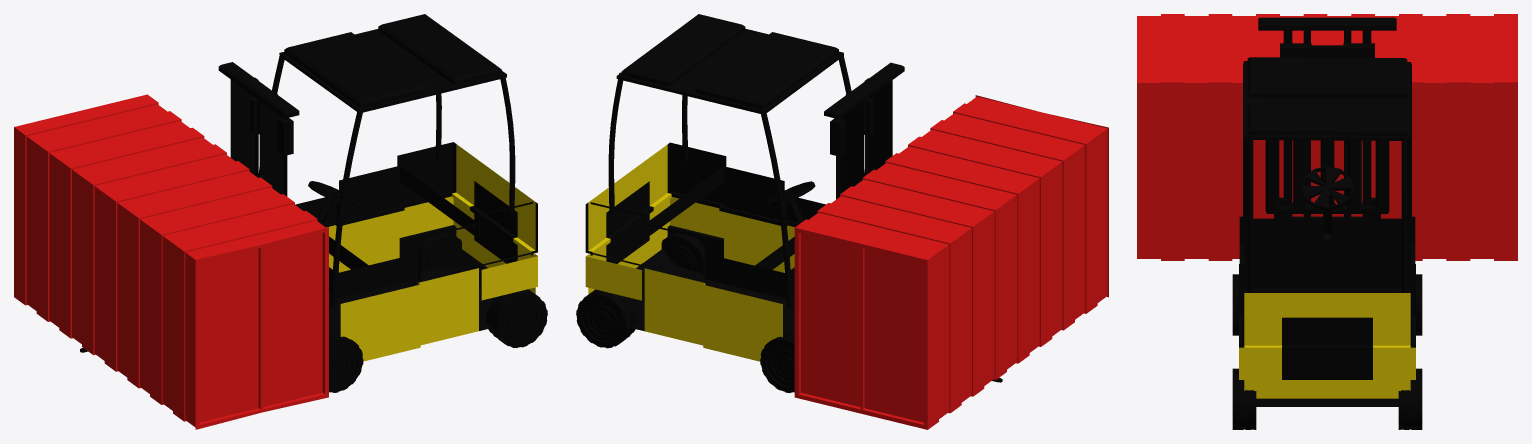
The model's file is stacker.fbx.
3 views of the same model, side by side, from view 1: azimuth 30°, elevation 25°; view 2: azimuth 150°, elevation 25°; view 3: azimuth 270°, elevation 25° (orthographic). The views are drawn at different scales.
Visible parts, largest first — view 1: Containers.001; view 2: Containers.001; view 3: Containers.001.
Part boxes in pixels (bbox=[...]): Containers.001: bbox=[14, 14, 547, 429]; Containers.001: bbox=[576, 14, 1108, 429]; Containers.001: bbox=[1137, 14, 1517, 429].
Bounding box in the file's own units: 407 × 272 × 319.
